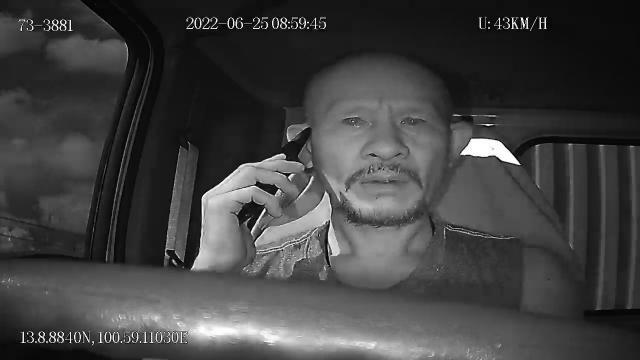PhoneUse: (240, 126, 312, 236)
SafeDriving: (392, 105, 434, 135), (334, 104, 376, 134)
